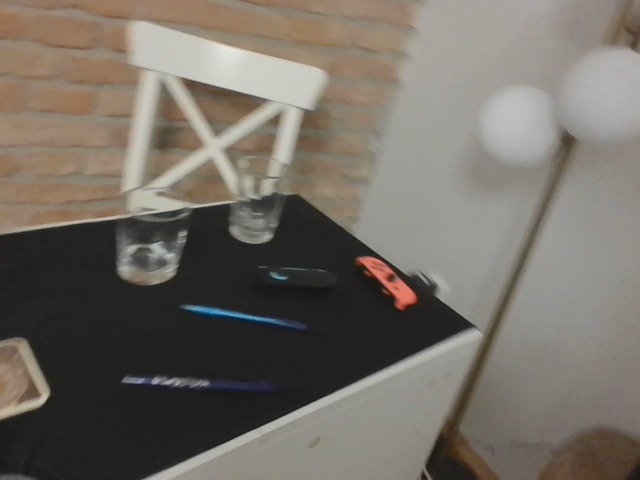glass: (110, 182, 188, 285), (229, 151, 288, 247)
joycon: (355, 252, 421, 312), (251, 262, 337, 292)
pen: (175, 299, 307, 329), (117, 374, 276, 389)
